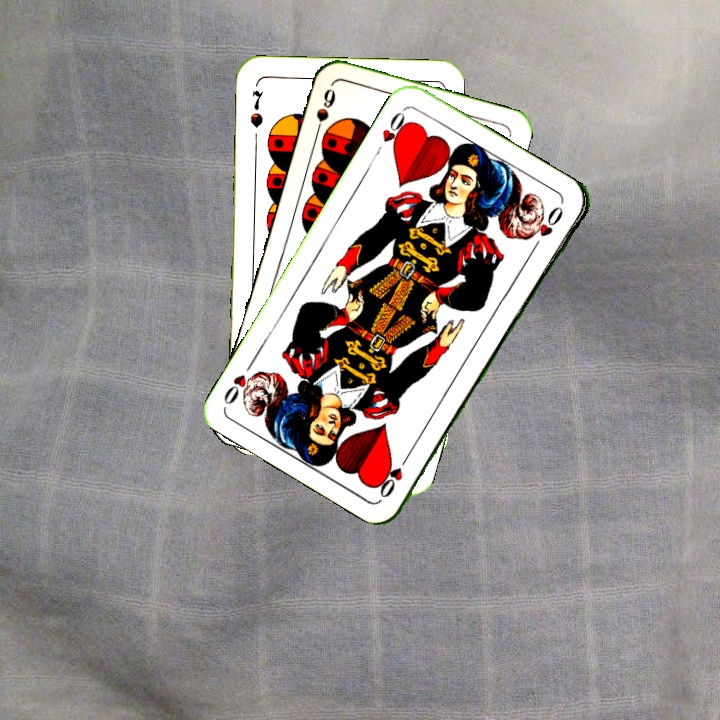HO: (370, 105, 413, 158), (375, 448, 414, 501)
S7: (246, 86, 266, 130)
S9: (310, 84, 338, 140)
